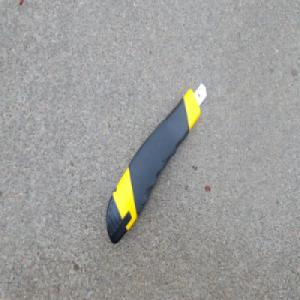Cutter: (106, 80, 209, 244)
